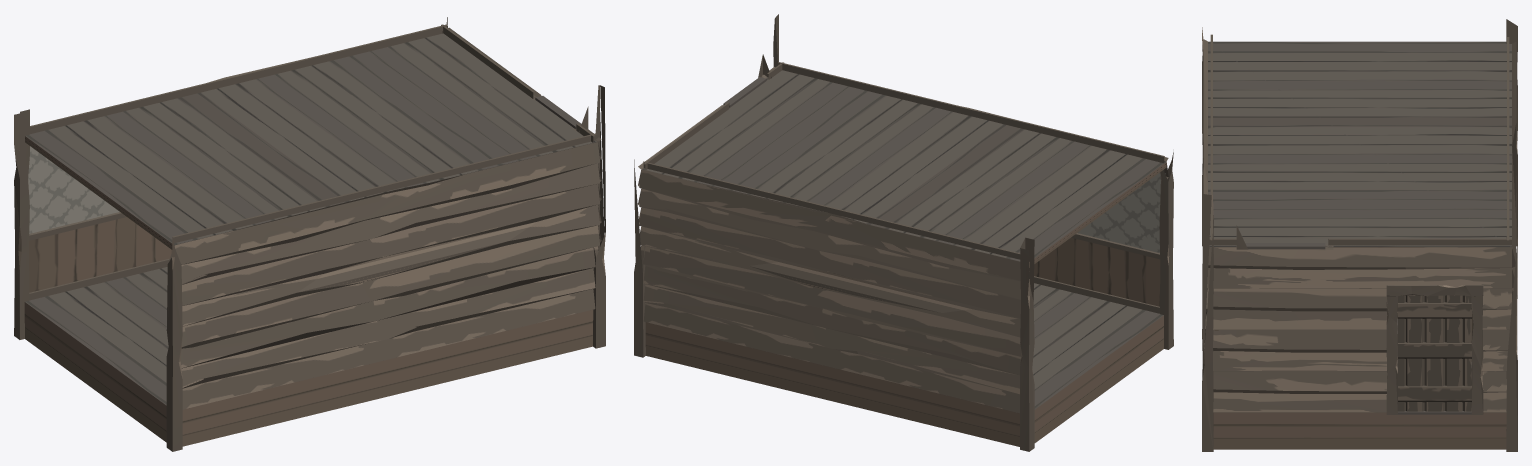
Rendered from Bank.glb.
The picture shows the model from 3 angles, left to right: view 1: azimuth 30°, elevation 25°; view 2: azimuth 150°, elevation 25°; view 3: azimuth 270°, elevation 25°; orthographic projection. The views are drawn at different scales.
Parts seen in each view (by area): view 1: SM_Bld_Double_02__1_; view 2: SM_Bld_Double_02__1_; view 3: SM_Bld_Double_02__1_, SM_Bld_Double_BackDoor_03.
Part boxes in pixels (bbox=[...]): SM_Bld_Double_02__1_: bbox=[14, 17, 605, 451]; SM_Bld_Double_02__1_: bbox=[634, 14, 1173, 451]; SM_Bld_Double_02__1_: bbox=[1202, 19, 1517, 451]; SM_Bld_Double_BackDoor_03: bbox=[1398, 295, 1471, 411].
Bounding box in the file's own units: 8.19 × 4.68 × 5.19.
5 materials, 4 textured.
